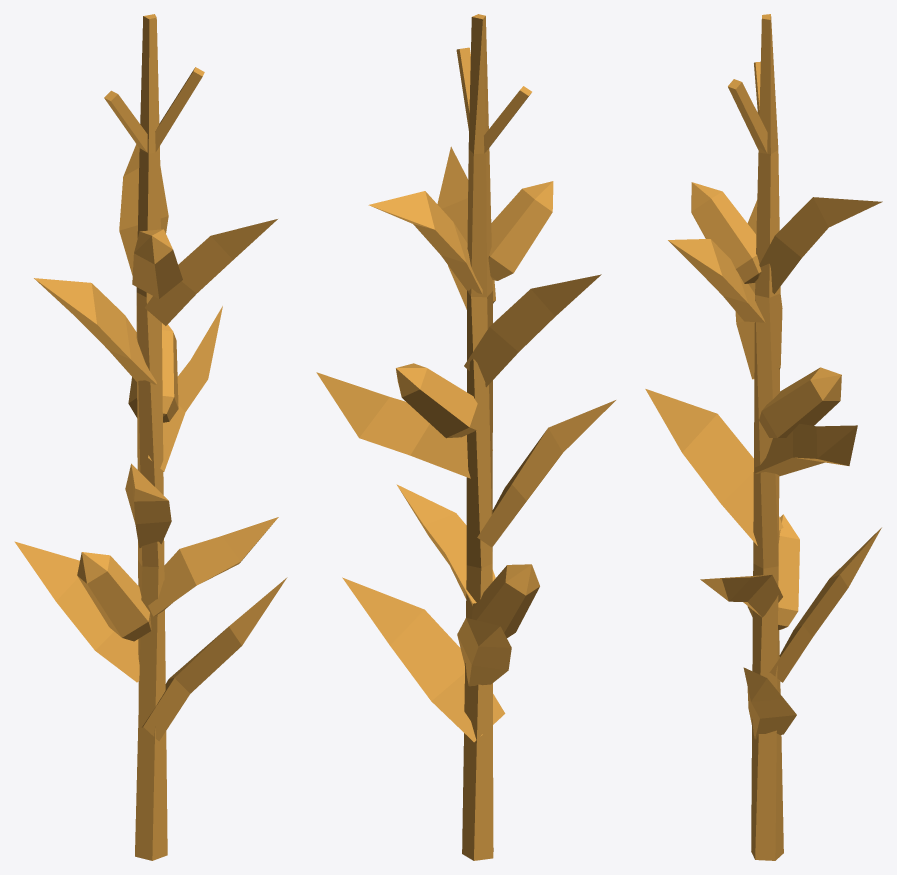
Rendered from corn-plant.fbx.
3 views of the same model, side by side, from view 1: azimuth 30°, elevation 25°; view 2: azimuth 150°, elevation 25°; view 3: azimuth 270°, elevation 25° (orthographic).
Parts seen in each view (by area): view 1: corn-plant; view 2: corn-plant; view 3: corn-plant.
Boxes of the visible parts, x1,y1,x2,y2 form: corn-plant: (14, 14, 287, 860); corn-plant: (316, 14, 615, 860); corn-plant: (645, 14, 882, 860).
Bounding box in the file's own units: 0.7377 × 2.3 × 0.591.
